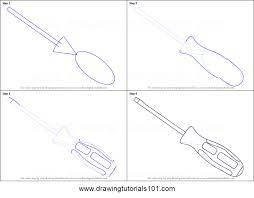screwdriver: (132, 95, 244, 177)
